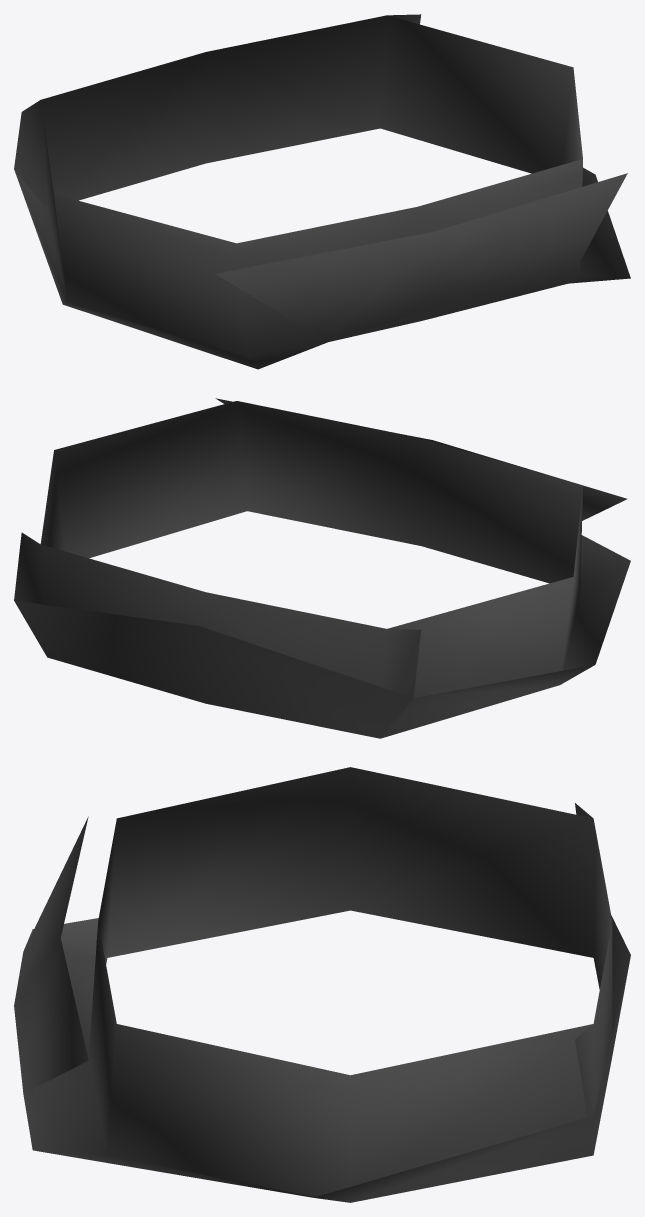
The model's file is batch_0003.obj.
3 views of the same model, one above another, from view 1: azimuth 30°, elevation 25°; view 2: azimuth 150°, elevation 25°; view 3: azimuth 270°, elevation 25° (orthographic). The views are drawn at different scales.
Visible parts, largest first — view 1: batch_0003; view 2: batch_0003; view 3: batch_0003.
Part boxes in pixels (bbox=[...]): batch_0003: bbox=[14, 14, 630, 369]; batch_0003: bbox=[14, 398, 630, 738]; batch_0003: bbox=[14, 767, 630, 1202].
Bounding box in the file's own units: 20 × 4 × 16.5.
1 material, 1 textured.
